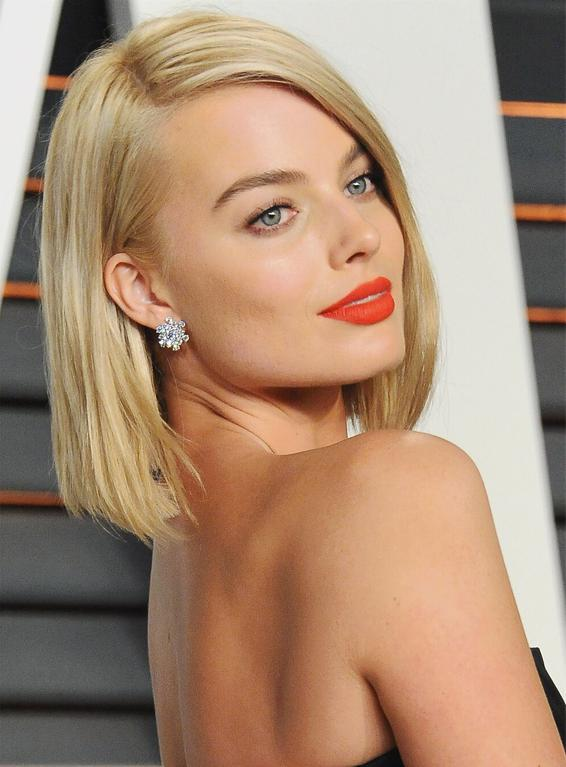Sober: (166, 114, 408, 369)
